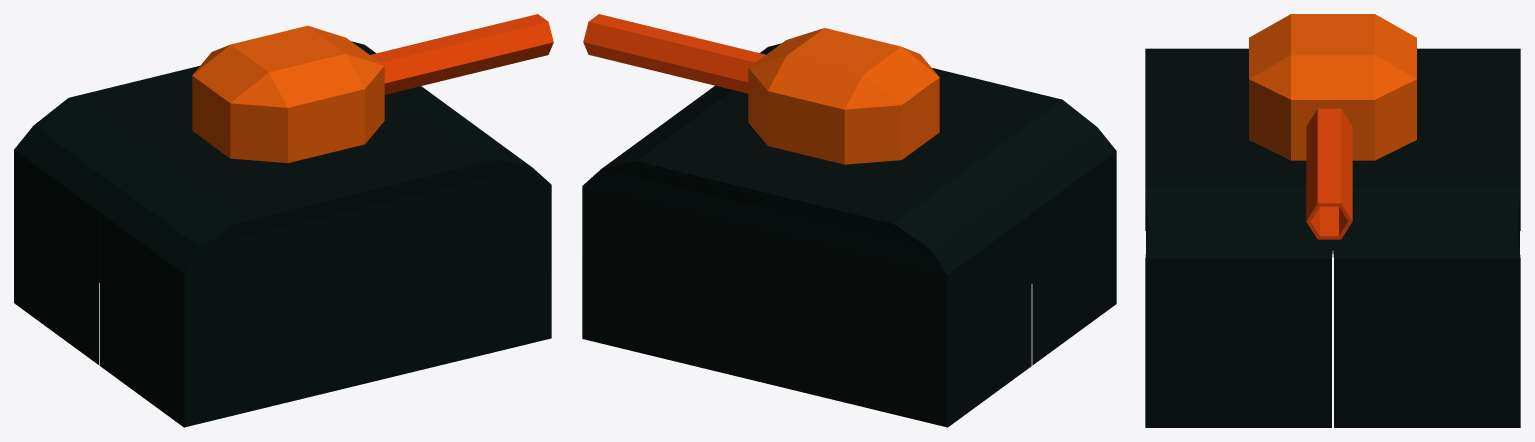
Rendered from turret_enemy.fbx.
The picture shows the model from 3 angles, left to right: view 1: azimuth 30°, elevation 25°; view 2: azimuth 150°, elevation 25°; view 3: azimuth 270°, elevation 25°; orthographic projection. The views are drawn at different scales.
Parts seen in each view (by area): view 1: Tank Trim, Turrent Head, Nozzle; view 2: Tank Trim, Turrent Head, Nozzle; view 3: Tank Trim, Turrent Head, Nozzle.
Boxes of the visible parts, <box> form: Tank Trim: <box>14,41,551,427</box>; Turrent Head: <box>192,25,384,162</box>; Nozzle: <box>370,14,553,94</box>; Tank Trim: <box>582,43,1116,427</box>; Turrent Head: <box>748,28,939,164</box>; Nozzle: <box>583,14,765,93</box>; Tank Trim: <box>1145,48,1520,427</box>; Turrent Head: <box>1249,14,1416,160</box>; Nozzle: <box>1306,108,1352,239</box>.
Size of the model in its own units: 602 by 352 by 402.
